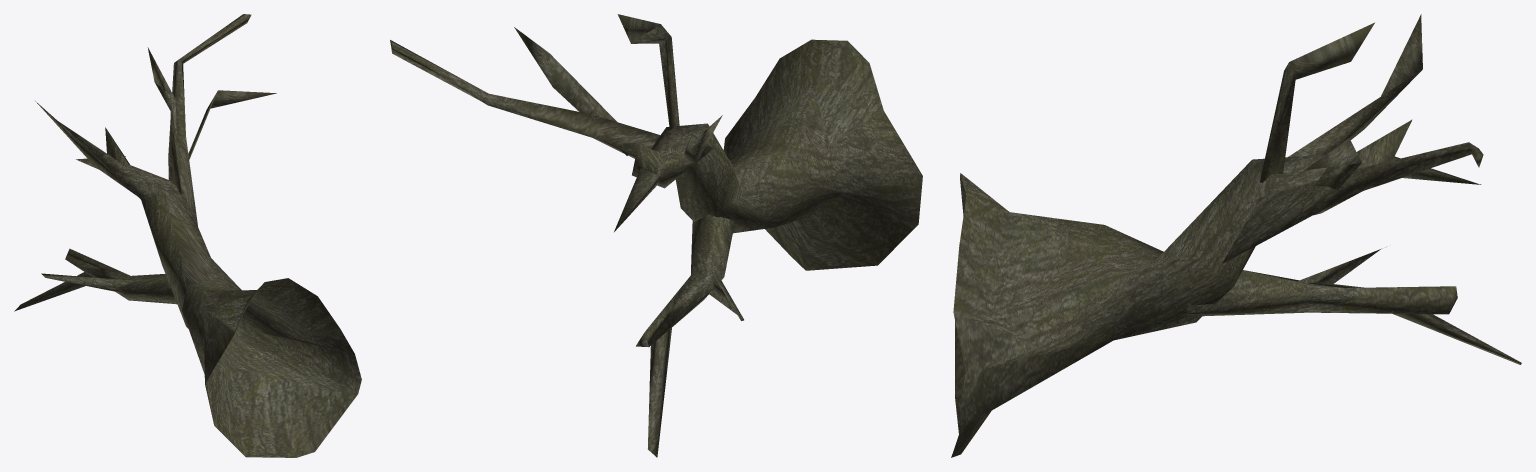
The model's file is tree3.FBX.
3 views of the same model, side by side, from view 1: azimuth 30°, elevation 25°; view 2: azimuth 150°, elevation 25°; view 3: azimuth 270°, elevation 25° (orthographic). The views are drawn at different scales.
Parts seen in each view (by area): view 1: TI_Old_Tree_04_LOD_03; view 2: TI_Old_Tree_04_LOD_03; view 3: TI_Old_Tree_04_LOD_03.
Boxes of the visible parts, x1,y1,x2,y2 form: TI_Old_Tree_04_LOD_03: [14, 14, 361, 457]; TI_Old_Tree_04_LOD_03: [390, 14, 922, 457]; TI_Old_Tree_04_LOD_03: [951, 14, 1521, 457].
Bounding box in the file's own units: 2.27 × 2.76 × 3.31.
